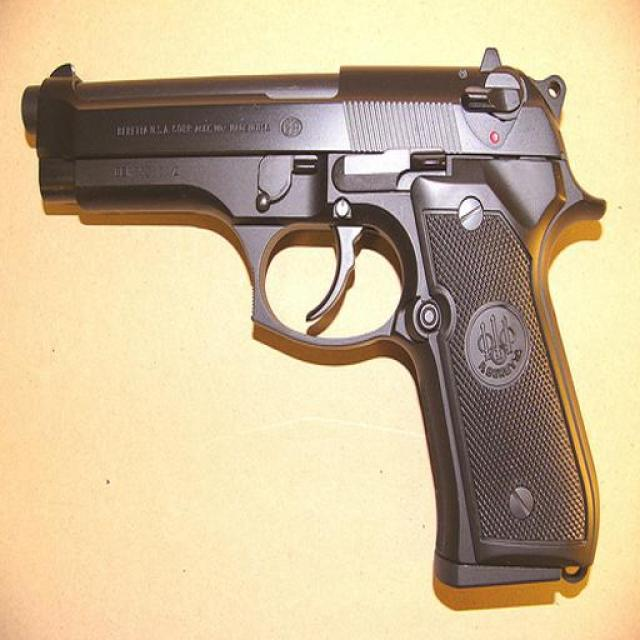pistol: (20, 45, 606, 585)
